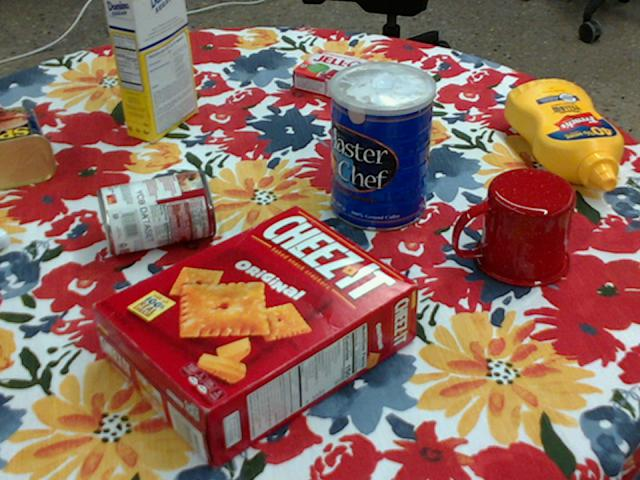cracker_box: (90, 207, 416, 471)
gelatin_box: (290, 51, 376, 104)
large_marker: (0, 228, 8, 247)
master_chef_can: (330, 61, 437, 233)
mug: (455, 168, 576, 289)
mustard_bottle: (504, 79, 623, 190)
potted_meat_can: (0, 106, 54, 189)
sugar_box: (106, 0, 197, 140)
tomato_soup_can: (94, 169, 214, 255)
tuna_fish_can: (343, 96, 417, 154)
